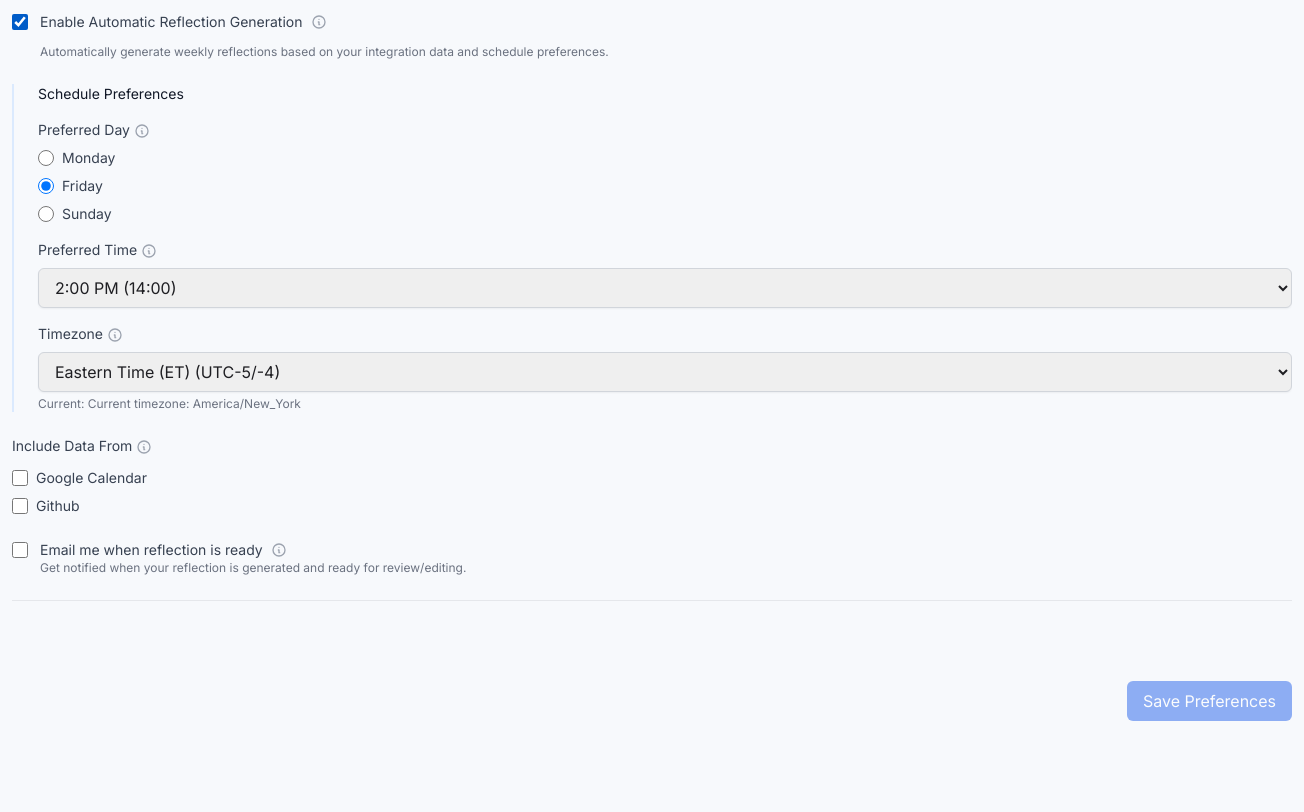
Test: ReflectionPreferencesComponent › Form Submission › should enable save when changes are made
Expected: the button "Save Preferences" is disabled, [1127,681,1292,721]
Make a change
Click the radio button showing "monday" at (46, 158), box [38,150,54,166]
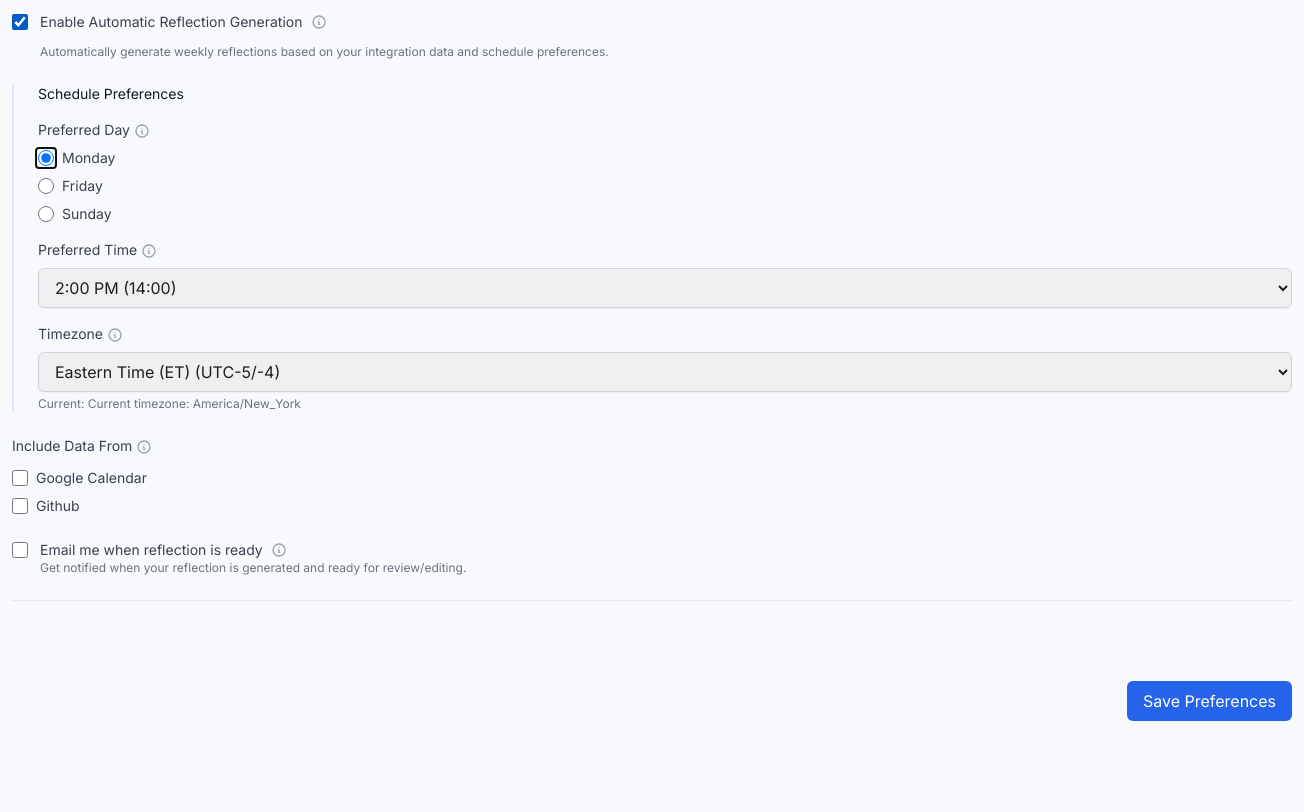
Now the button "Save Preferences" is enabled, box [1127,681,1292,721]
